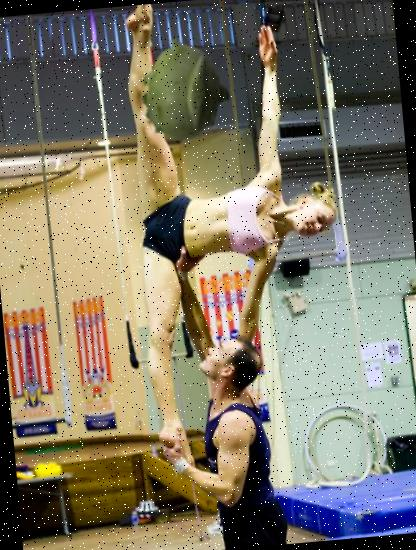Kohlrabi: (130, 34, 242, 146)
